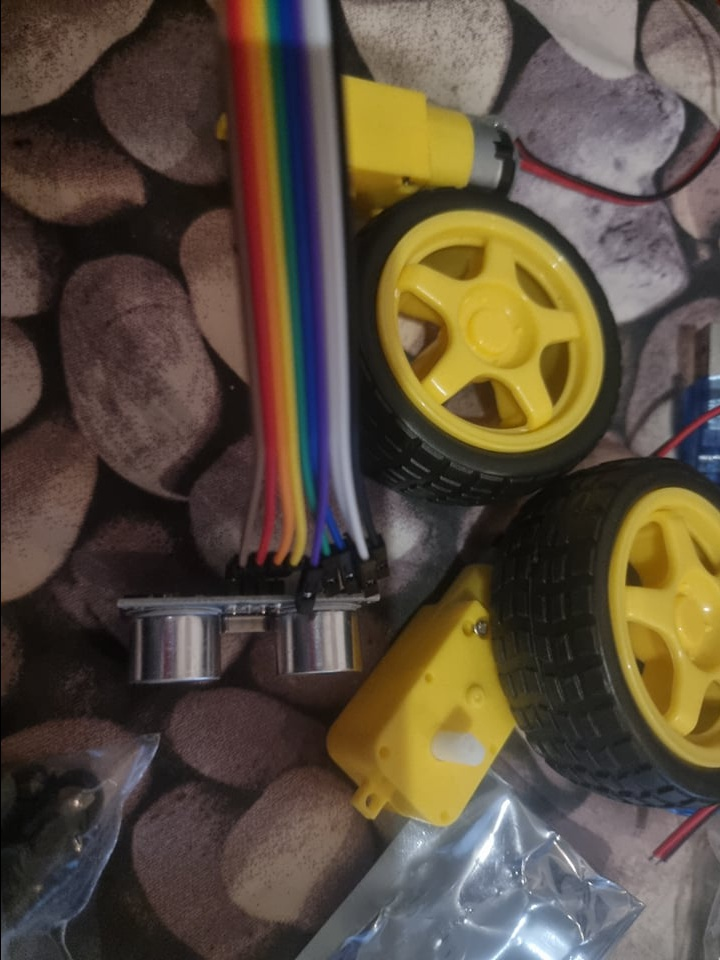SENSOR: (107, 593, 384, 692)
